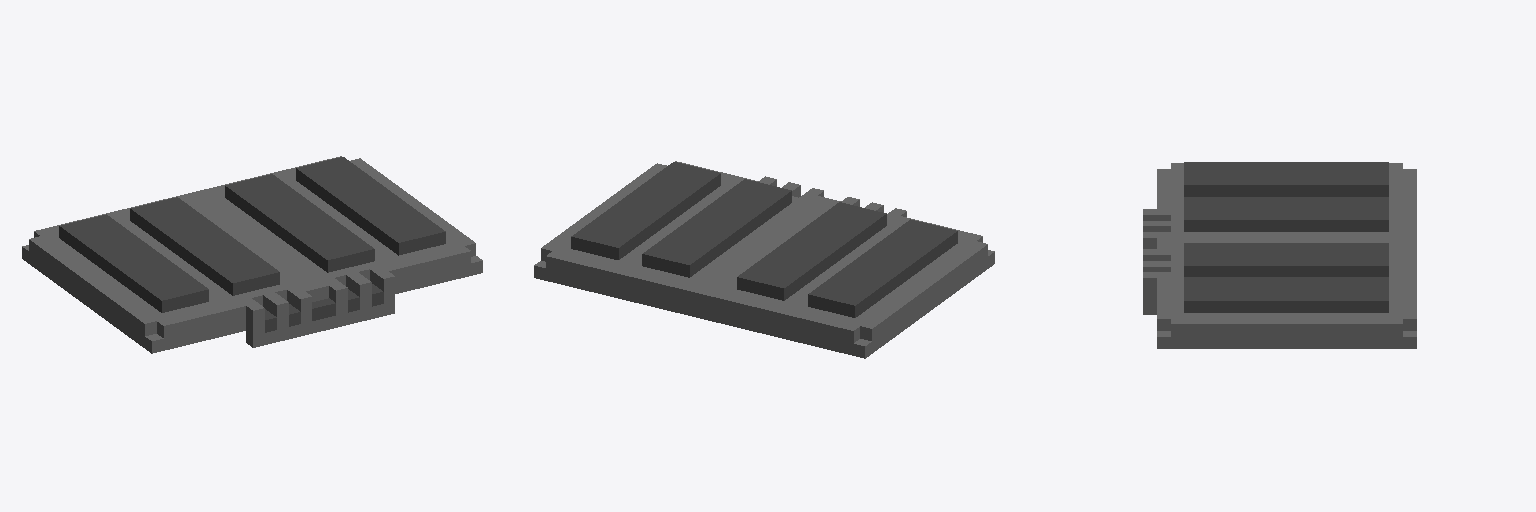
The picture shows the model from 3 angles: view 1: azimuth 30°, elevation 25°; view 2: azimuth 150°, elevation 25°; view 3: azimuth 270°, elevation 25°; orthographic projection.
Visible parts, largest first — view 1: object 1; view 2: object 1; view 3: object 1.
Part boxes in pixels (left/top/right/bottom): object 1: left=22, top=156, right=482, bottom=353; object 1: left=534, top=161, right=994, bottom=358; object 1: left=1143, top=162, right=1416, bottom=348.
Bounding box in the file's own units: 2.8 × 0.4 × 2.
1 materials, 1 textured.